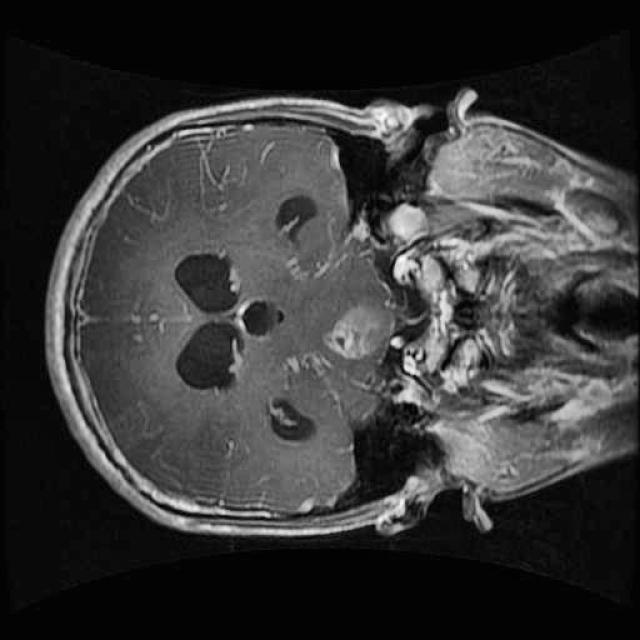Tumor: (319, 294, 400, 370)
